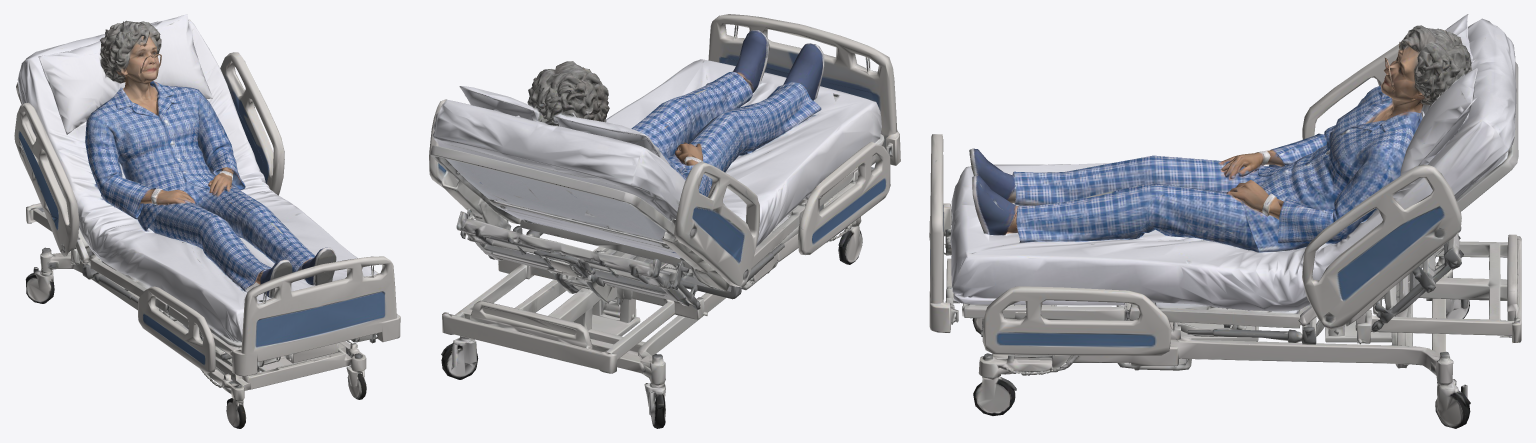
3 views of the same model, side by side, from view 1: azimuth 30°, elevation 25°; view 2: azimuth 150°, elevation 25°; view 3: azimuth 270°, elevation 25° (orthographic). The views are drawn at different scales.
Visible parts, largest first — view 1: f3; view 2: f3; view 3: f3.
Boxes of the visible parts, box(x1,y1,x2,y2) form: f3: box(14, 14, 400, 428); f3: box(429, 14, 900, 428); f3: box(929, 14, 1521, 428).
Bounding box in the file's own units: 1.05 × 1.24 × 1.9.
1 material, 1 textured.
